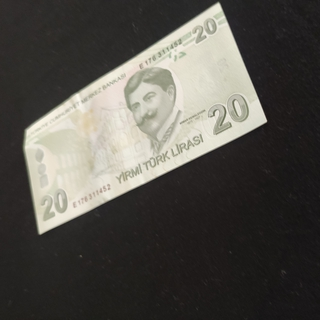20TLBack: (23, 1, 267, 235)
